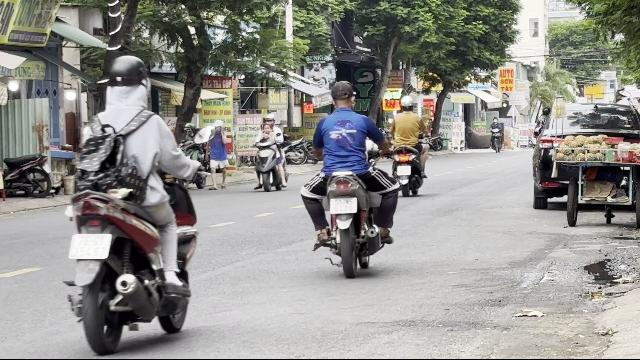helmet: (105, 54, 149, 110)
licenseplate: (70, 233, 110, 257), (329, 198, 356, 214)
motorcyclist: (62, 52, 205, 354), (300, 78, 400, 274)
nohelmet: (328, 80, 356, 110)
